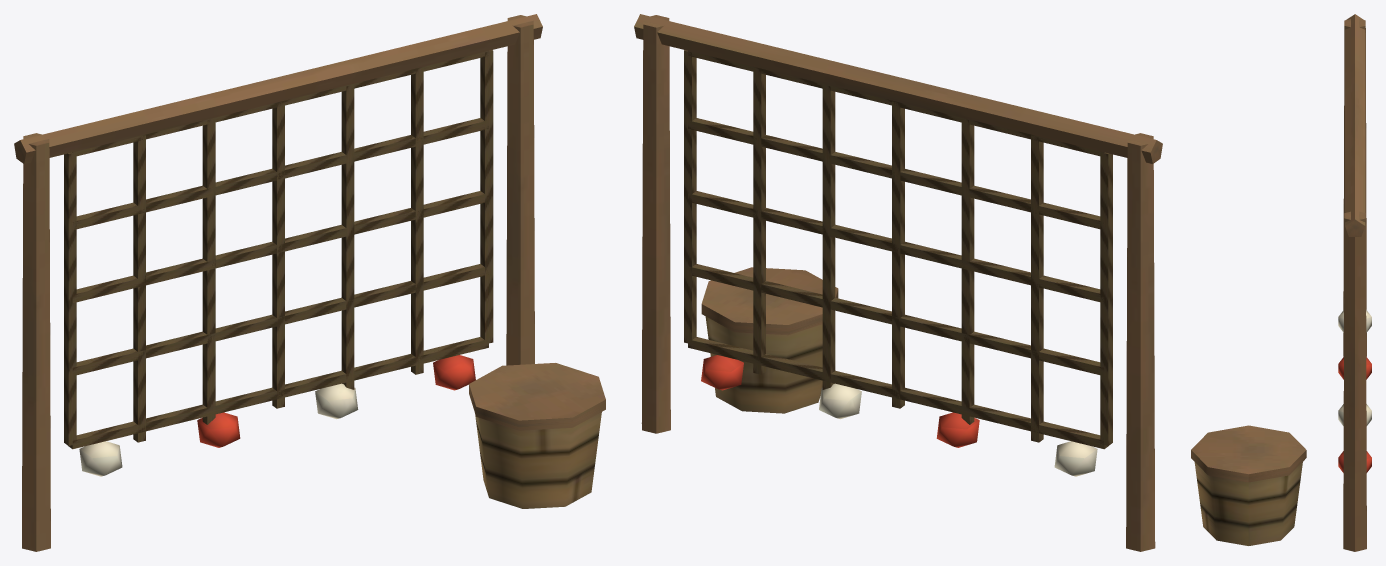
Rendered from net_rack.glb.
The picture shows the model from 3 angles, left to right: view 1: azimuth 30°, elevation 25°; view 2: azimuth 150°, elevation 25°; view 3: azimuth 270°, elevation 25°; orthographic projection. The views are drawn at different scales.
Visible parts, largest first — view 1: net_rack; view 2: net_rack; view 3: net_rack.
Part boxes in pixels (x1,y1,x2,y2): net_rack: [14, 14, 605, 551]; net_rack: [634, 14, 1162, 551]; net_rack: [1191, 14, 1371, 551].
Size of the model in its own units: 3.2 by 2.42 by 1.19.
2 materials, 2 textured.
